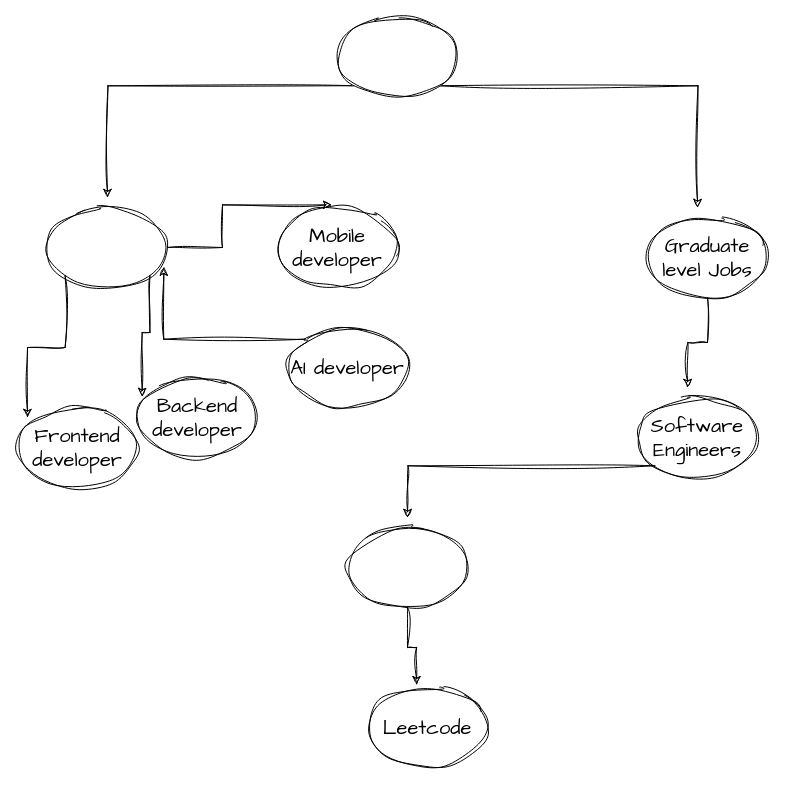
This 785x785 diagram has some shape labels left out. The box of each missing label's shape, as (x1, y1, x2, y2) in pixels:
FAANG: (346, 526, 468, 608)
IT Industry: (336, 16, 458, 98)
Technision level Jobs: (46, 206, 168, 288)
